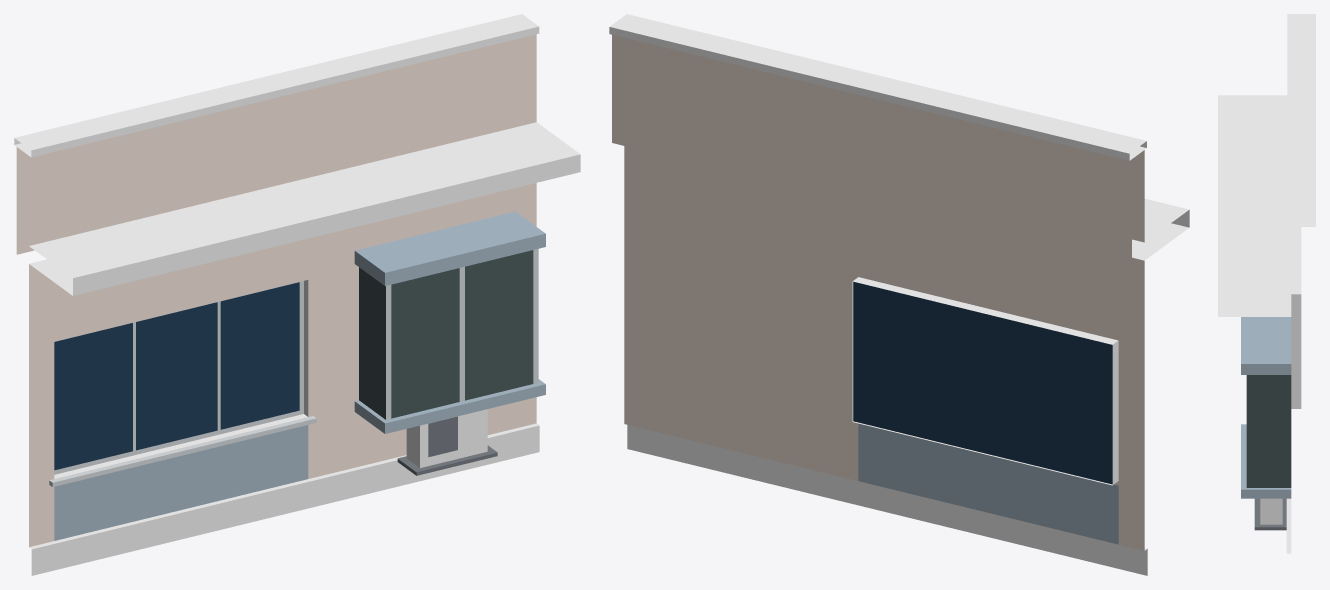
File: top-w1.fbx
3 renders of one model, left to right at view 1: azimuth 30°, elevation 25°; view 2: azimuth 150°, elevation 25°; view 3: azimuth 270°, elevation 25°, orthographic. The views are drawn at different scales.
Parts seen in each view (by area): view 1: a2011/300/top-w1; view 2: a2011/300/top-w1; view 3: a2011/300/top-w1.
Boxes of the visible parts, bbox=[...] form: a2011/300/top-w1: bbox=[14, 14, 580, 575]; a2011/300/top-w1: bbox=[609, 14, 1189, 575]; a2011/300/top-w1: bbox=[1218, 14, 1315, 553].
Size of the model in its own units: 6 by 4.8 by 1.2.
